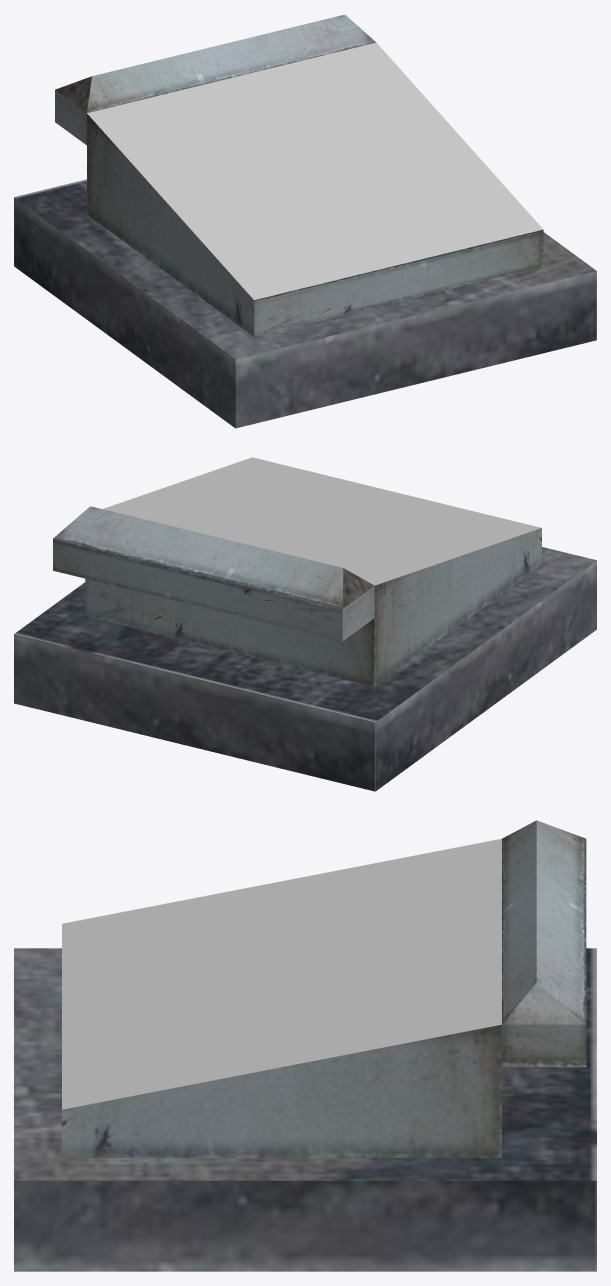
File: roof_window4.fbx
The picture shows the model from 3 angles, top to bottom: view 1: azimuth 30°, elevation 25°; view 2: azimuth 150°, elevation 25°; view 3: azimuth 270°, elevation 25°; orthographic projection. The views are drawn at different scales.
Parts seen in each view (by area): view 1: roof_window4; view 2: roof_window4; view 3: roof_window4.
Boxes of the visible parts, x1,y1,x2,y2 form: roof_window4: (14, 14, 596, 428); roof_window4: (14, 457, 596, 791); roof_window4: (14, 820, 596, 1271).
Bounding box in the file's own units: 279 × 142 × 296.
